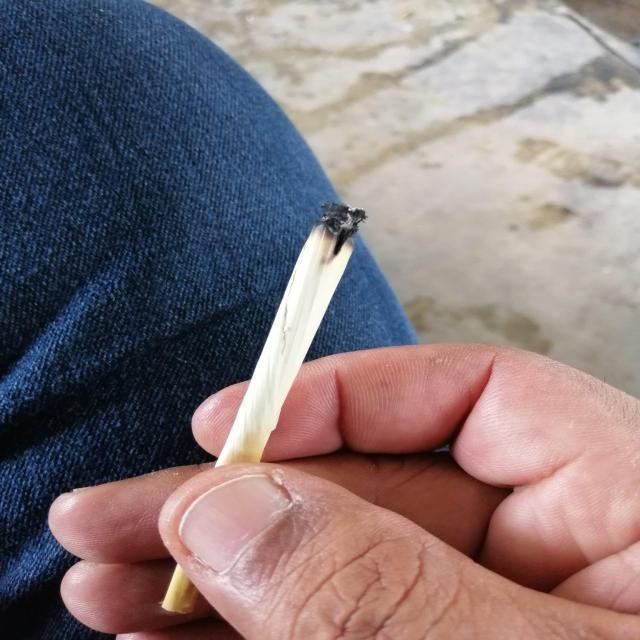rokok: (157, 200, 381, 622)
